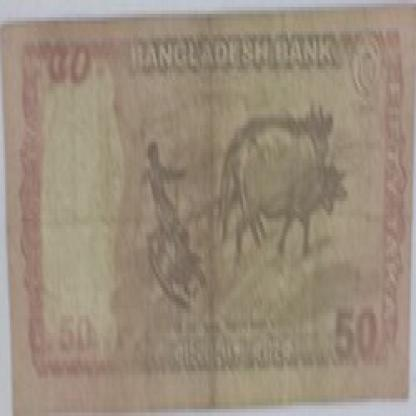Fifty taka: (38, 35, 116, 100), (326, 291, 388, 361)
